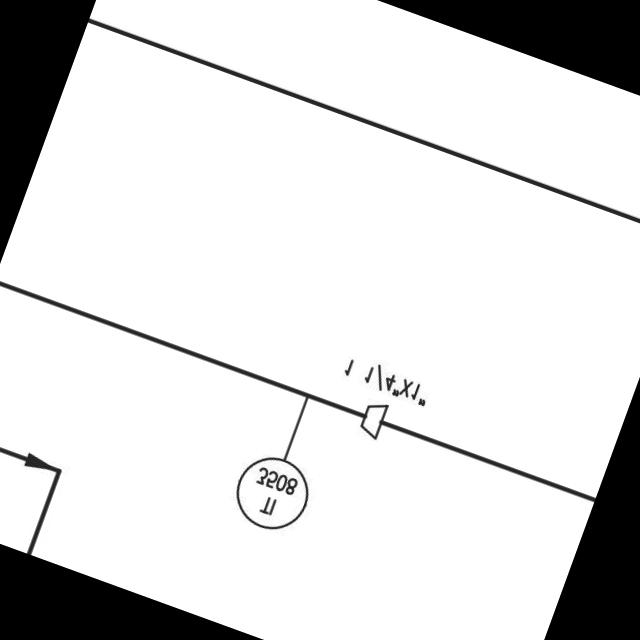SP: (350, 395, 396, 446)
